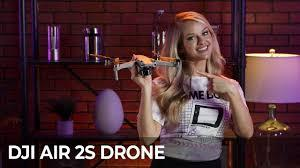drone: (88, 50, 181, 82)
